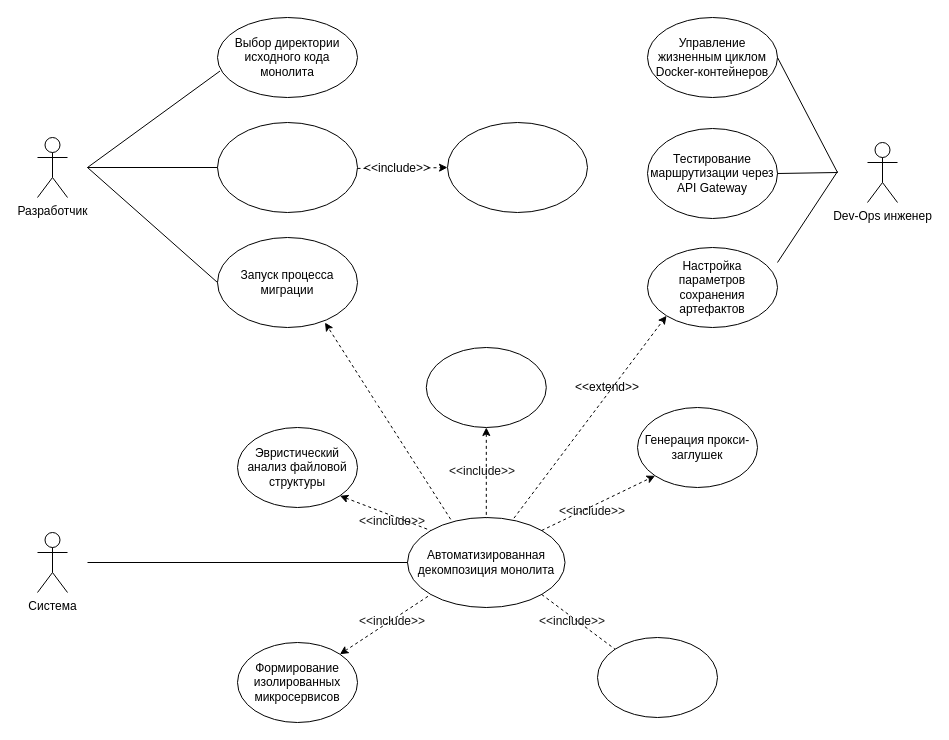
The diagram is 949 pixels wide and 740 high, and some of its shapes have lost their labels. The shapes that lost their labels are listed below. From the top down, each one's centre as x and y in pixels, then its label:
the point at 287,167: Мониторинг логов выполнение во встроенном терминале
the point at 517,167: Просмотр детализации ошибок
the point at 485,387: Семантическая очистка моделей БД
the point at 657,677: Генерация конфигураций инфрастуктуры
